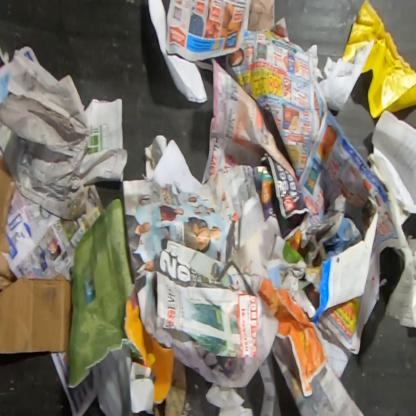cardboard: (0, 153, 73, 355), (153, 358, 189, 415)
